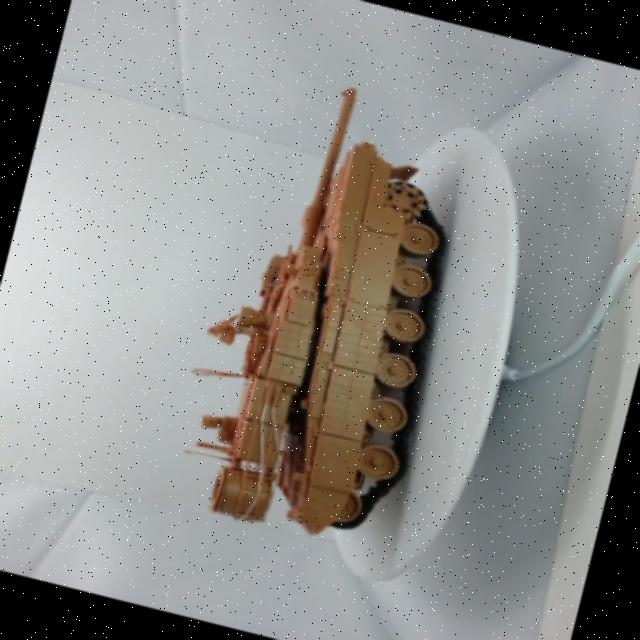korea tank: (141, 48, 509, 568)
